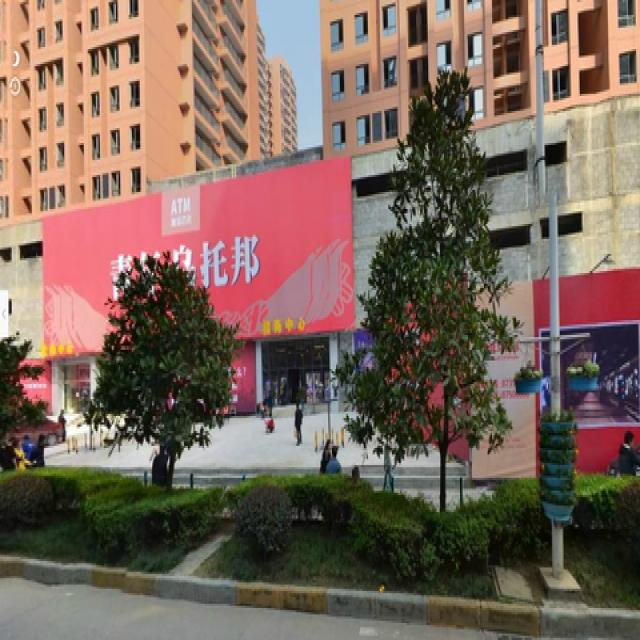magn: (359, 43, 521, 512)
